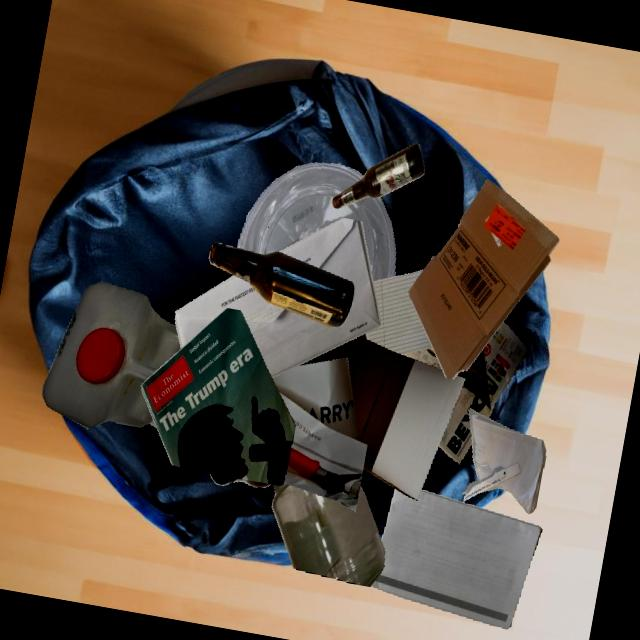cardboard: (407, 178, 559, 379), (324, 336, 465, 500)
glass: (208, 242, 354, 327), (271, 482, 384, 587), (331, 142, 424, 209), (209, 473, 271, 487)
paper: (174, 217, 380, 377), (140, 307, 295, 485), (370, 488, 542, 628), (271, 357, 367, 512), (452, 321, 527, 463), (461, 407, 545, 513), (366, 269, 432, 354)
plastic: (42, 281, 180, 428), (237, 162, 395, 281), (149, 419, 156, 427)
